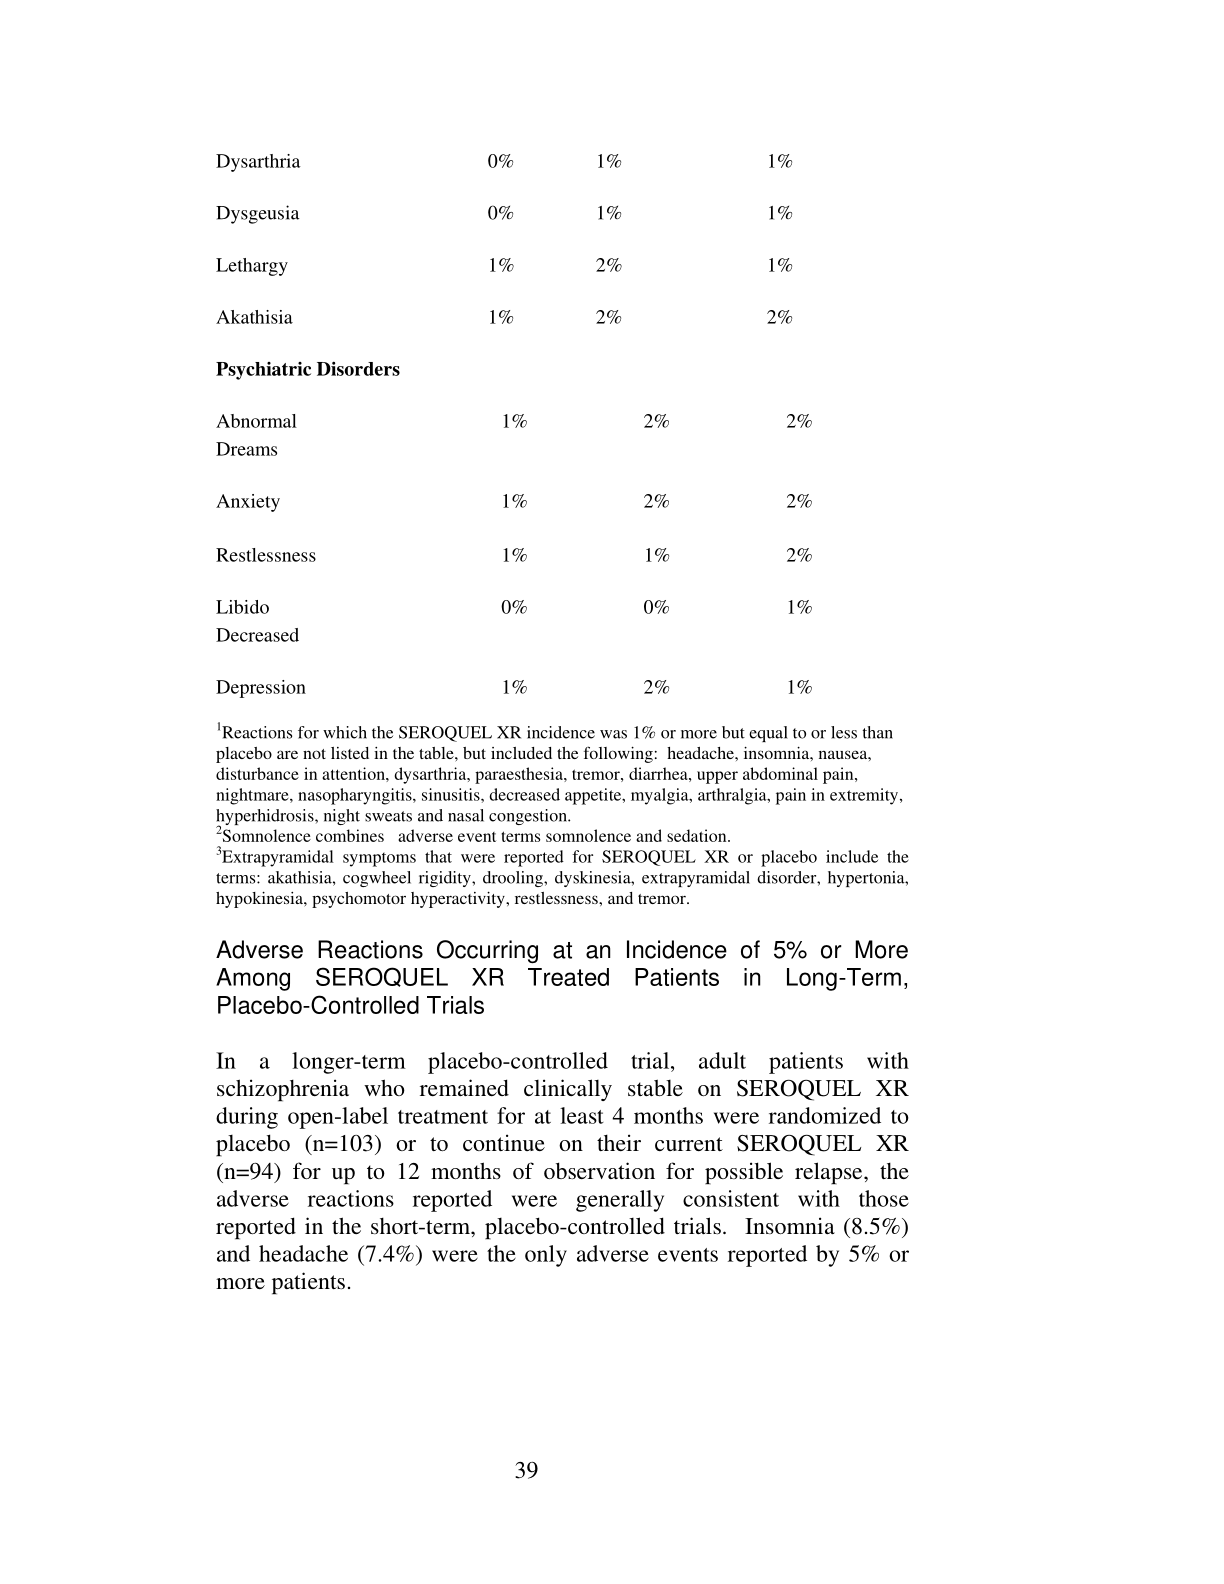nolines: (213, 150, 824, 699)
